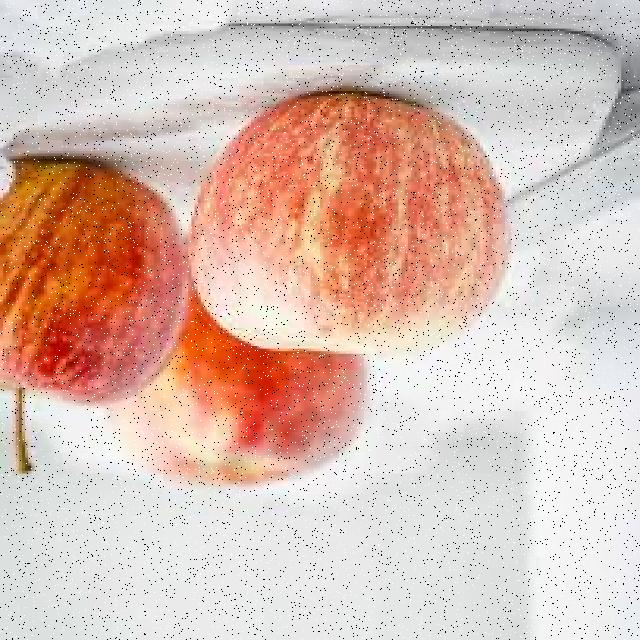Apple: (187, 91, 503, 353), (0, 164, 177, 398), (101, 347, 369, 486)
